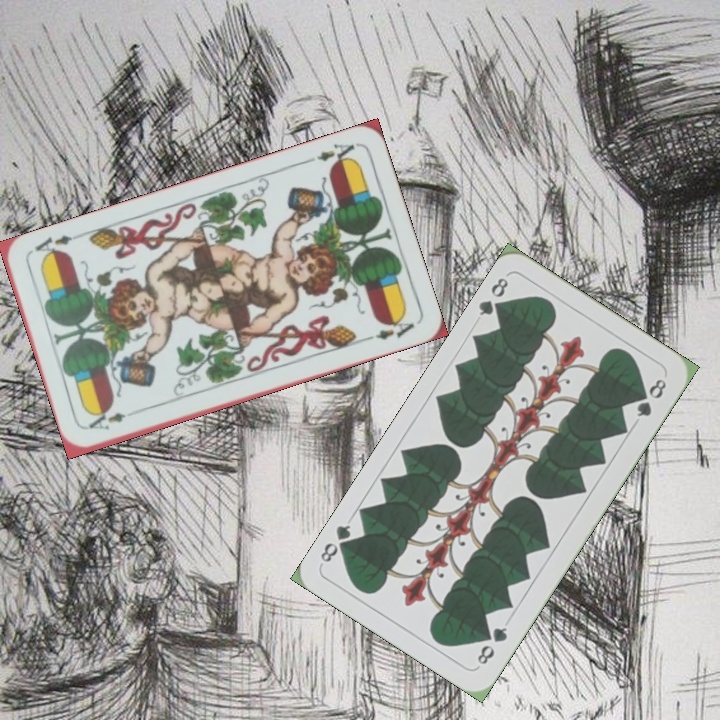EA: (302, 139, 359, 170), (84, 408, 128, 433)
G8: (474, 273, 511, 320), (473, 622, 510, 668)
